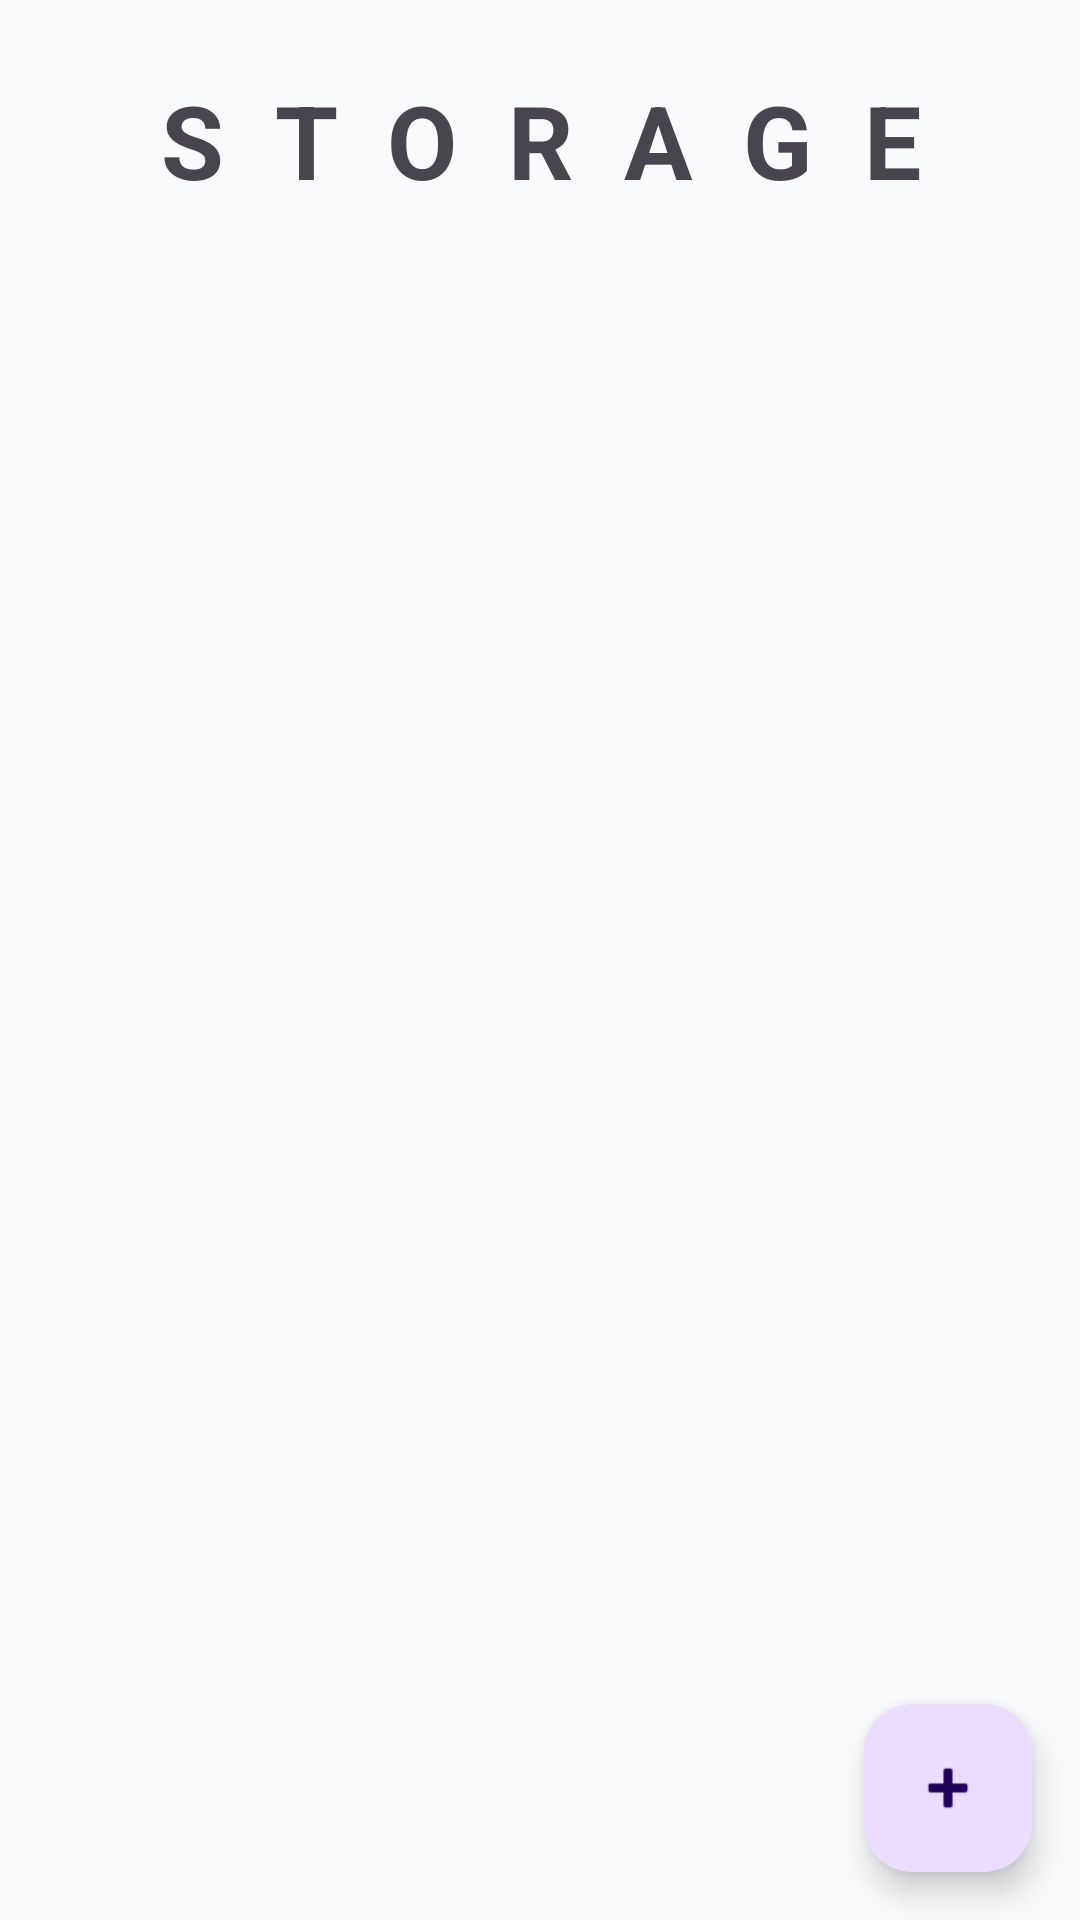

Icons on this 1080px x 1920px Android screen, each with its box as (x1, y1, x2, y2):
add button: (864, 1704, 1032, 1872)
